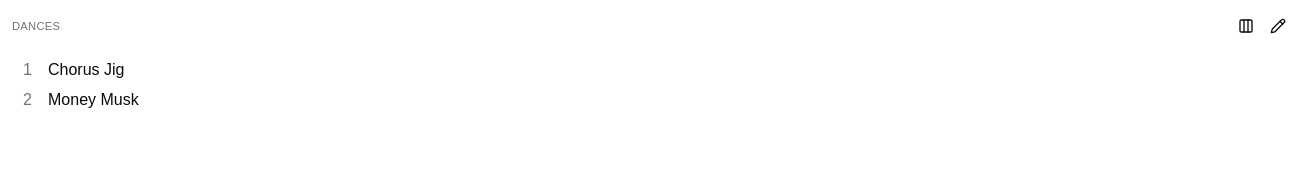
ProgramDanceLineup › edit mode › toggles into edit mode, revealing drag handles, remove buttons, and Add dance - but no numbers
The image size is (1304, 172).
Click the button named "Edit dances" at {"x": 1278, "y": 26}, box top-left (1264, 12), bottom-right (1292, 40)
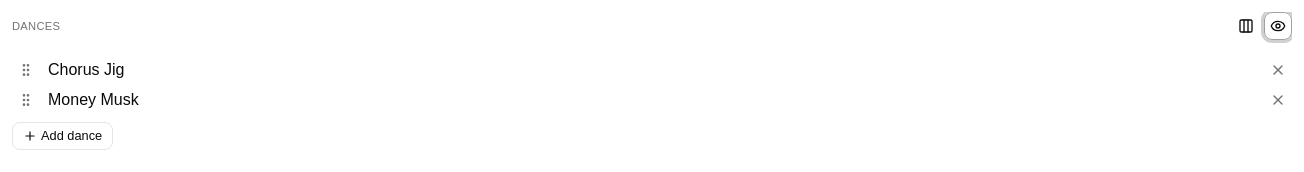
Check: the number of buttons named "Reorder dance" is 2, box top-left (12, 56), bottom-right (40, 84); top-left (12, 86), bottom-right (40, 114)
Check: the number of buttons named "Remove dance" is 2, box top-left (1264, 56), bottom-right (1292, 84); top-left (1264, 86), bottom-right (1292, 114)
Check: the button "Add dance" is shown, box top-left (12, 122), bottom-right (113, 150)
